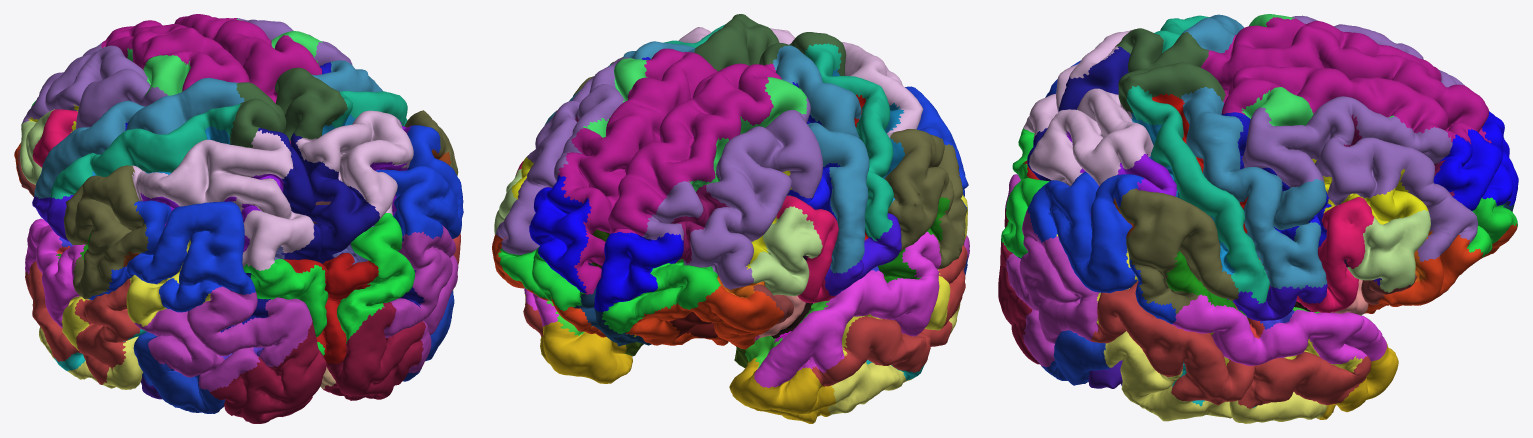
The model's file is cortex-destrieux.glb.
3 renders of one model, left to right at view 1: azimuth 30°, elevation 25°; view 2: azimuth 150°, elevation 25°; view 3: azimuth 270°, elevation 25°, orthographic. The views are drawn at different scales.
Visible parts, largest first — view 1: destrieux:left:27, destrieux:left:19, destrieux:left:25, destrieux:left:26, destrieux:left:29, destrieux:right:27, destrieux:left:15, destrieux:right:43, destrieux:left:28, destrieux:right:25, destrieux:left:38, destrieux:left:43 (+26 smaller); view 2: destrieux:left:15, destrieux:left:16, destrieux:right:16, destrieux:left:34, destrieux:left:29, destrieux:left:26, destrieux:right:15, destrieux:left:38, destrieux:left:28, destrieux:left:24, destrieux:left:5, destrieux:right:5 (+29 smaller); view 3: destrieux:right:15, destrieux:right:38, destrieux:right:29, destrieux:left:16, destrieux:right:25, destrieux:right:26, destrieux:right:34, destrieux:right:16, destrieux:right:27, destrieux:right:28, destrieux:right:19, destrieux:right:37 (+30 smaller).
Boxes of the visible parts, x1,y1,x2,y2 form: destrieux:left:27: [131, 130, 314, 270]; destrieux:left:19: [134, 286, 312, 391]; destrieux:left:25: [88, 200, 255, 312]; destrieux:left:26: [63, 165, 148, 299]; destrieux:left:29: [34, 77, 244, 199]; destrieux:right:27: [296, 110, 413, 219]; destrieux:left:15: [21, 42, 167, 128]; destrieux:right:43: [322, 302, 425, 400]; destrieux:left:28: [50, 103, 240, 199]; destrieux:right:25: [376, 125, 463, 239]; destrieux:left:38: [25, 261, 140, 384]; destrieux:left:43: [210, 319, 326, 423]; destrieux:left:15: [642, 96, 823, 289]; destrieux:left:16: [608, 63, 789, 236]; destrieux:right:16: [558, 48, 718, 294]; destrieux:left:34: [754, 232, 941, 387]; destrieux:left:29: [772, 45, 869, 273]; destrieux:left:26: [885, 129, 967, 269]; destrieux:right:15: [496, 57, 633, 254]; destrieux:left:38: [811, 245, 967, 386]; destrieux:left:28: [805, 43, 893, 241]; destrieux:left:24: [625, 285, 784, 349]; destrieux:left:5: [594, 232, 683, 312]; destrieux:right:5: [529, 175, 591, 292]; destrieux:right:15: [1242, 96, 1477, 261]; destrieux:right:38: [1090, 281, 1371, 408]; destrieux:right:29: [1181, 87, 1327, 289]; destrieux:left:16: [1200, 17, 1491, 143]; destrieux:right:25: [1027, 171, 1176, 324]; destrieux:right:26: [1119, 189, 1238, 313]; destrieux:right:34: [1171, 294, 1387, 365]; destrieux:right:16: [1221, 65, 1475, 144]; destrieux:right:27: [1029, 88, 1153, 186]; destrieux:right:28: [1126, 85, 1269, 303]; destrieux:right:19: [1005, 208, 1099, 367]; destrieux:right:37: [1103, 331, 1327, 423].
Size of the model in its own units: 0.1284 by 0.103 by 0.1464.
